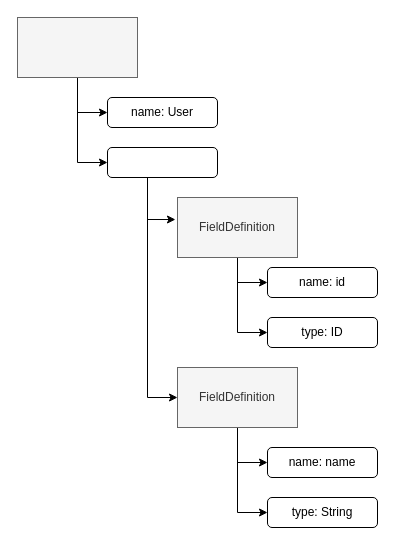
The diagram is 395 pixels wide and 545 high, and some of its shapes have lost their labels. The shapes that lost their labels are listed below. From the top down, each one's centre as x and y in pixels, then its label:
At pixel 77 47: "ObjectTypeDefinition".
At pixel 162 162: "fields".
